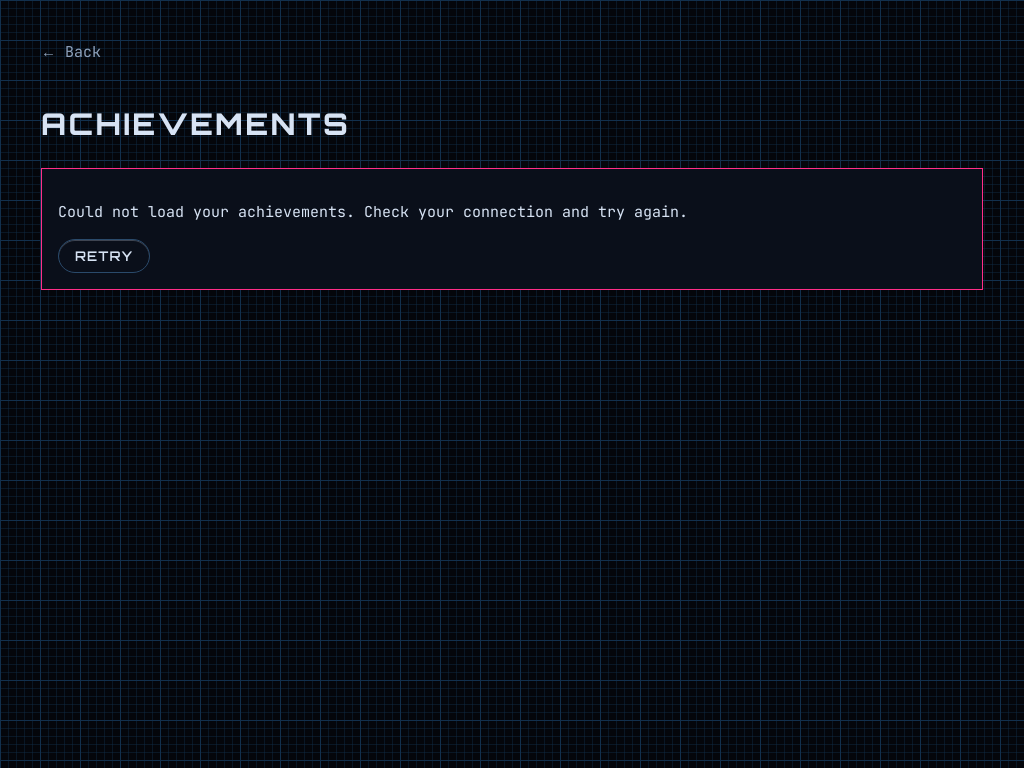
it: AchievementsScreen › shows an error and retries
Expected: the message "Could not load your achievements. Check your connection and try again. Retry" is shown, [41, 168, 983, 290]
Click the button "Retry": (104, 256) [58, 239, 150, 273]
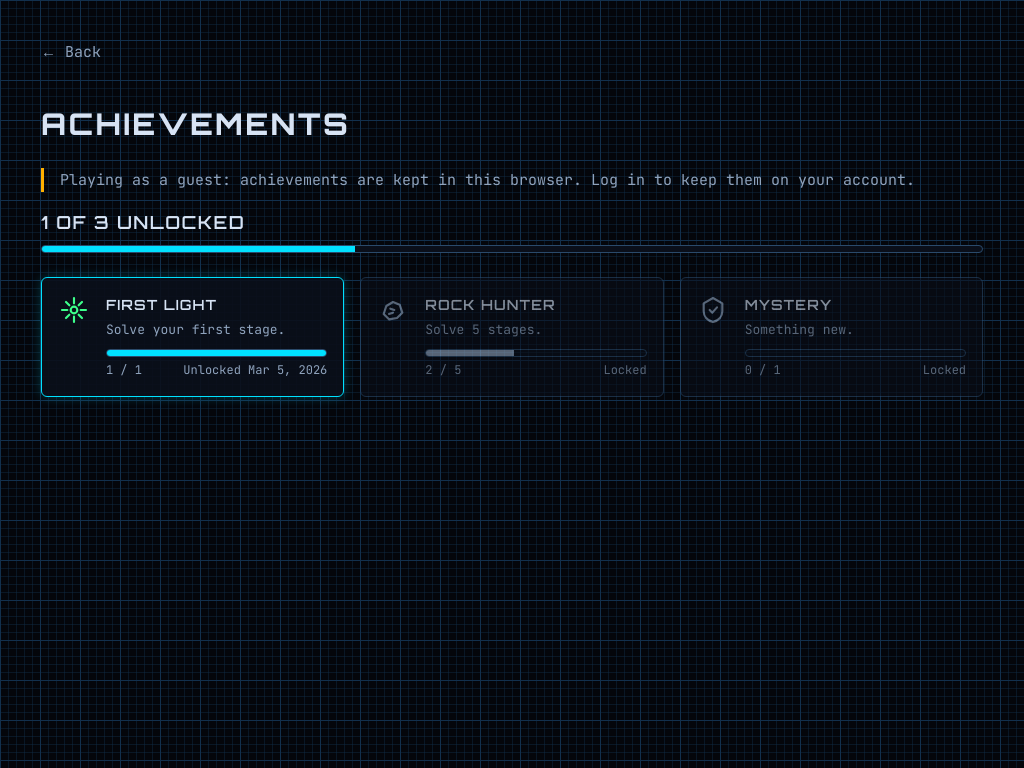
Result: the heading "1 of 3 unlocked" is shown at [41, 211, 245, 233]
Result: the message "Could not load your achievements. Check your connection and try again. Retry" is gone
